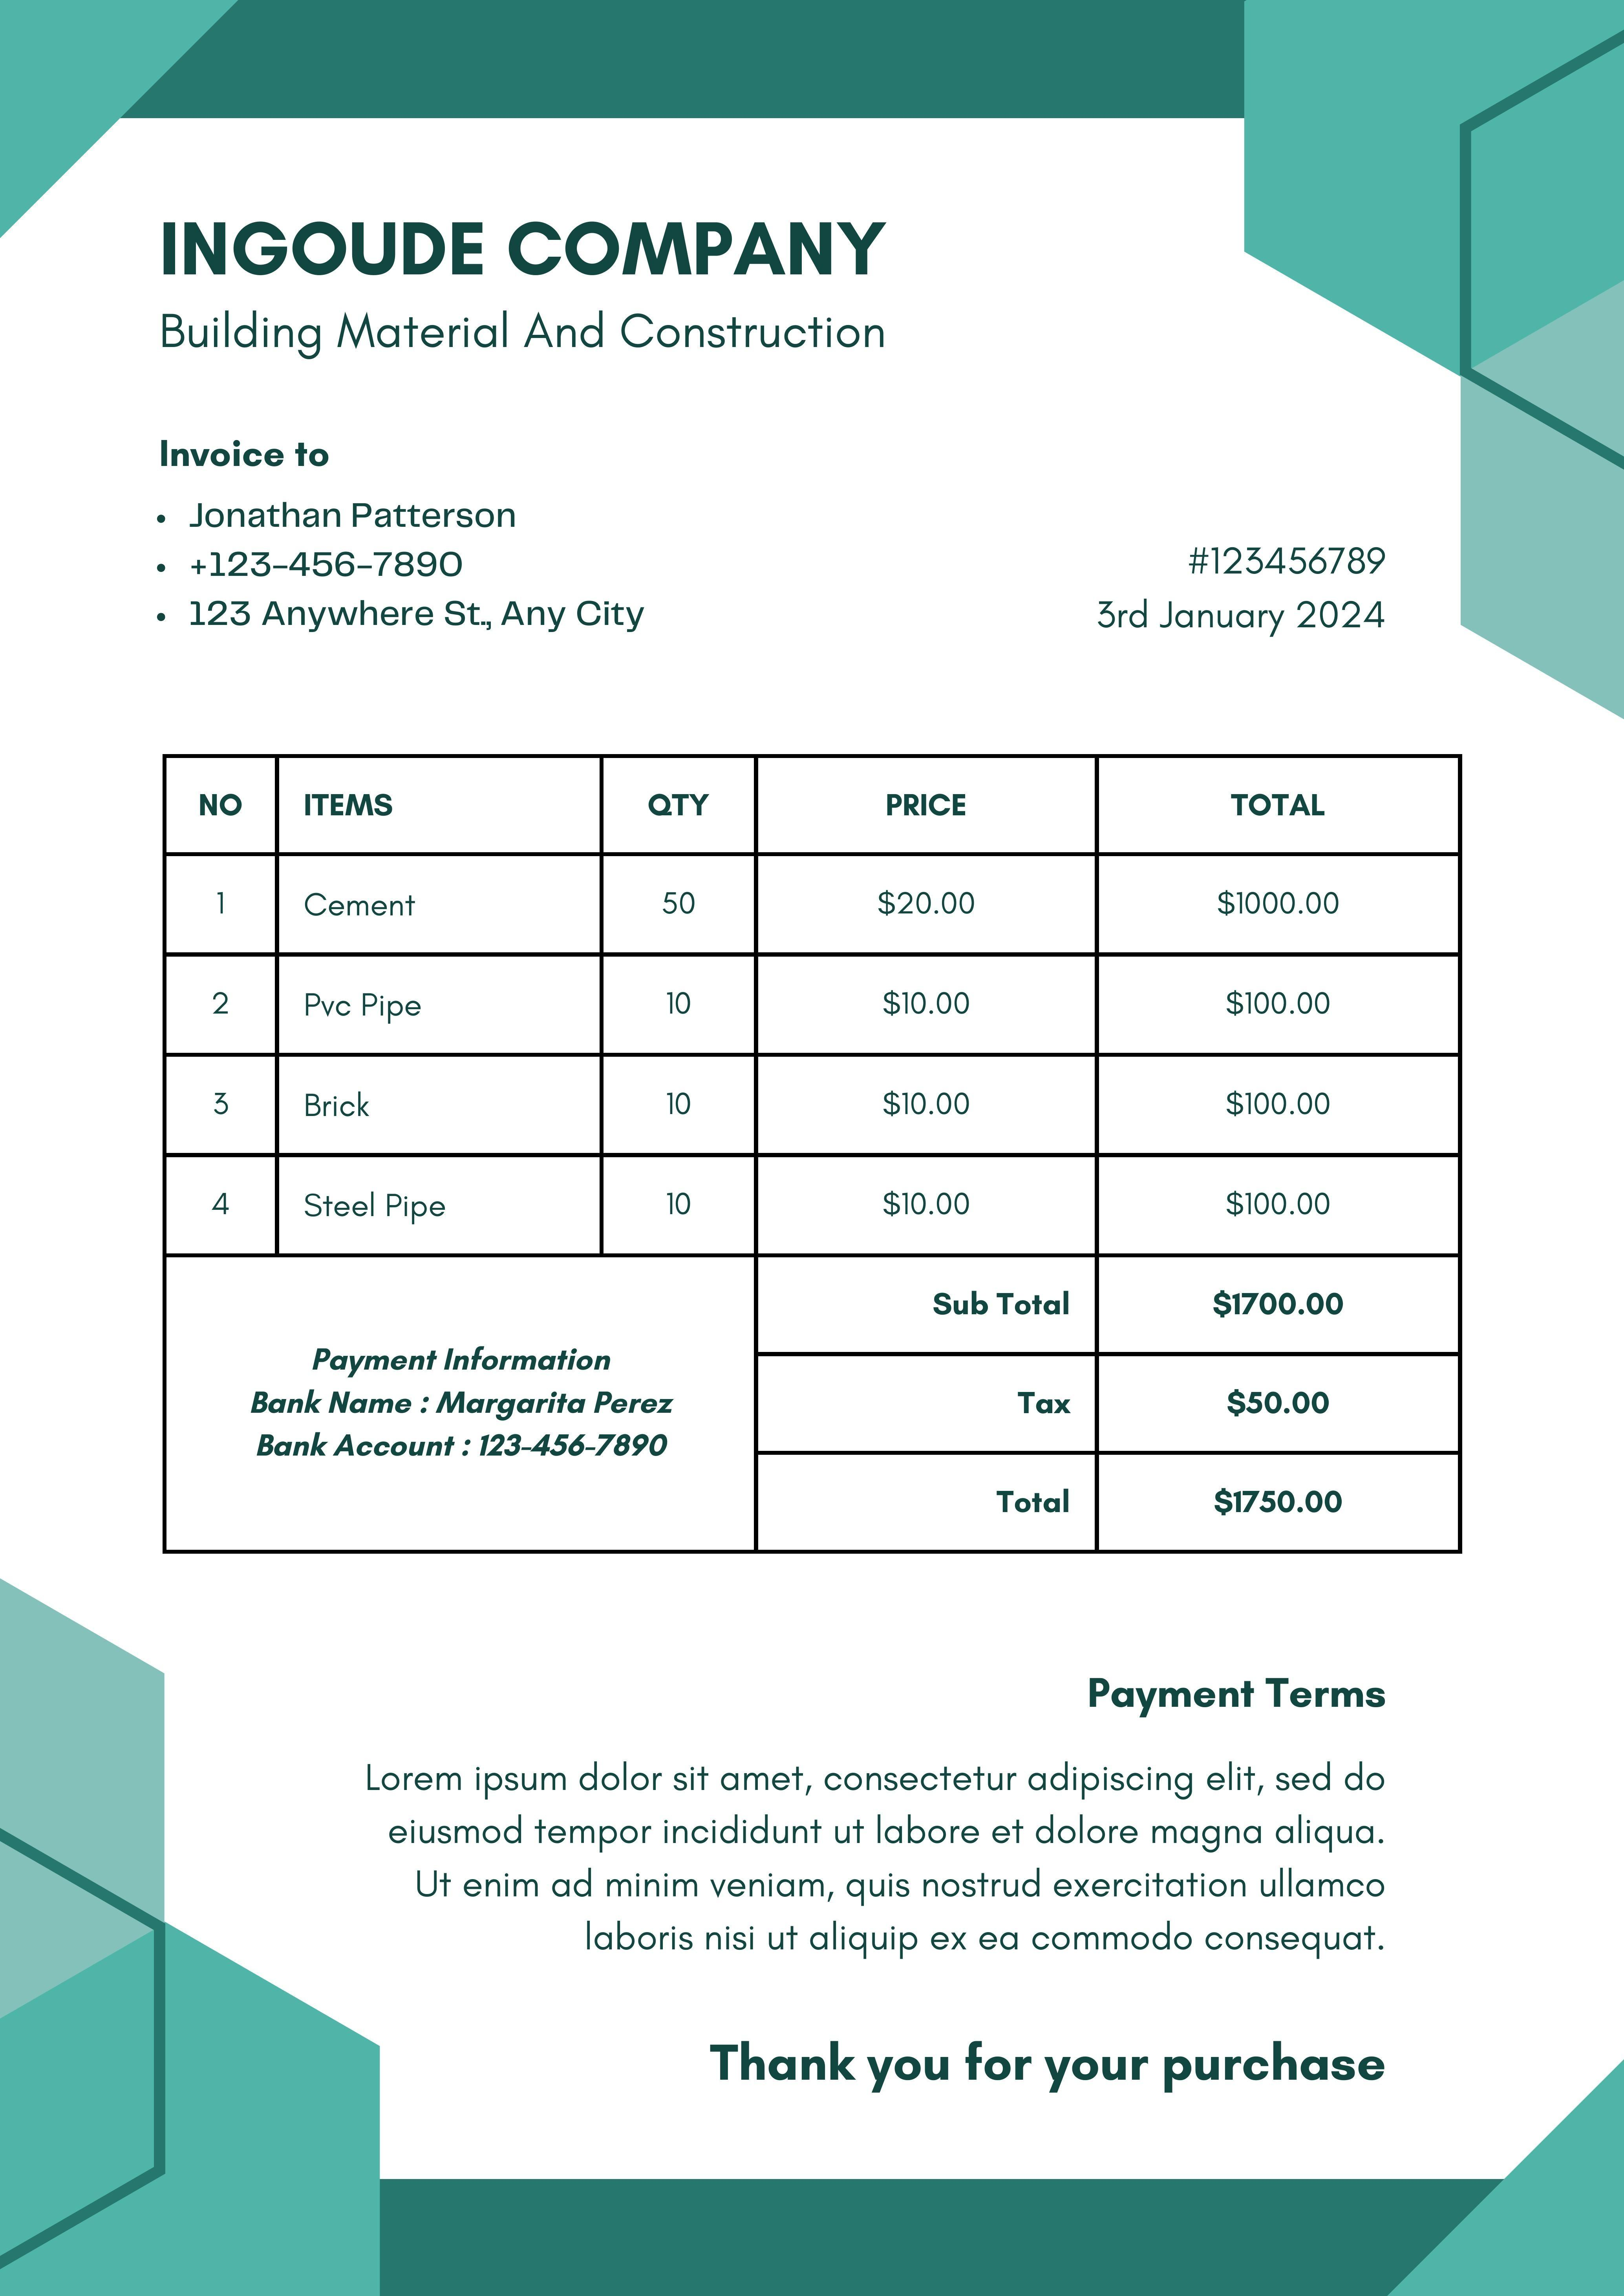ROI: (104, 715, 1501, 1245), (763, 1261, 1445, 1544), (127, 197, 937, 385), (118, 413, 670, 675), (241, 1319, 726, 1505), (1005, 495, 1408, 659)
